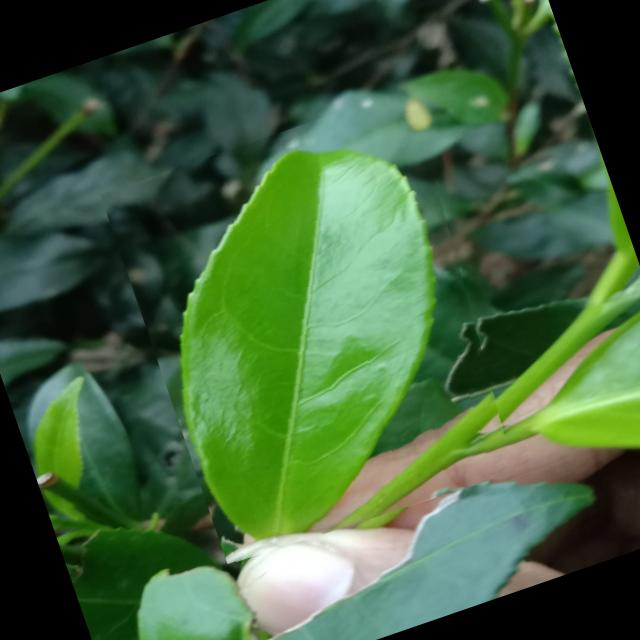Category C 4-7 days: (100, 87, 540, 570)
